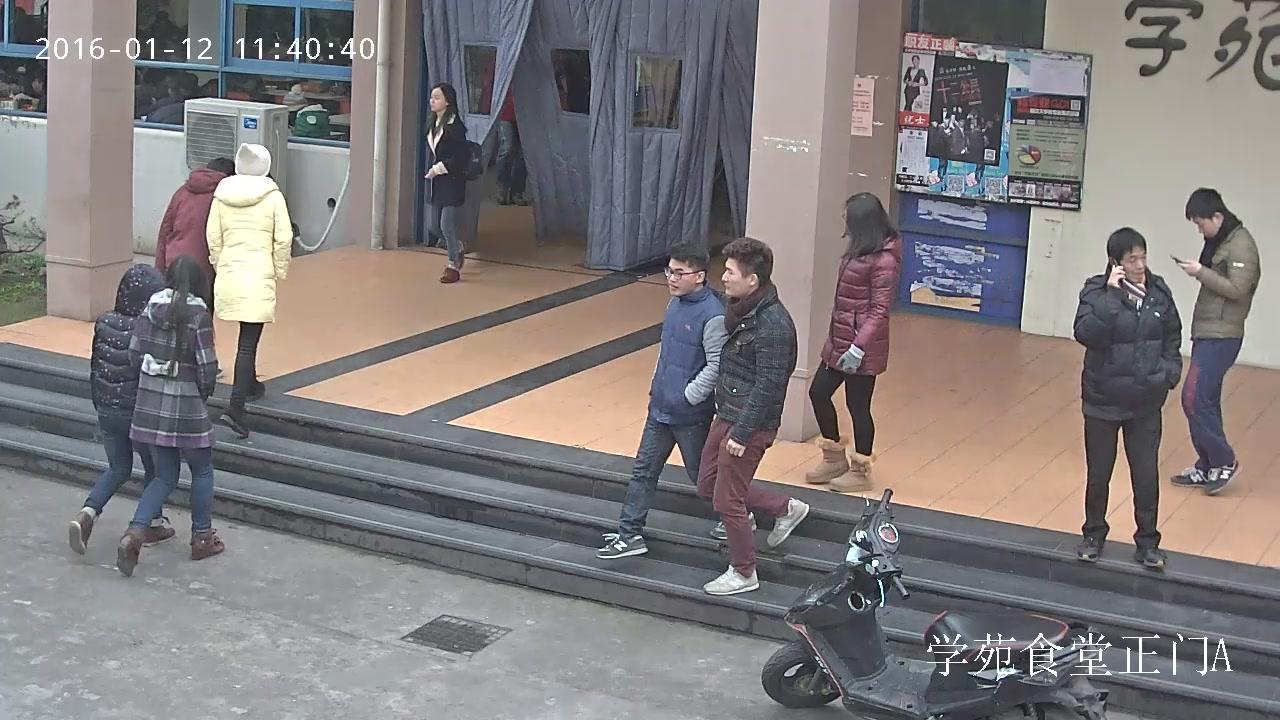person: (596, 238, 758, 558), (694, 236, 808, 596), (1075, 227, 1182, 565), (117, 254, 226, 577), (67, 262, 177, 554), (803, 192, 904, 491), (1168, 186, 1261, 496), (205, 141, 293, 437), (154, 155, 237, 376), (422, 82, 482, 282), (486, 51, 530, 207), (146, 71, 200, 126), (281, 81, 331, 139), (902, 53, 928, 111)
